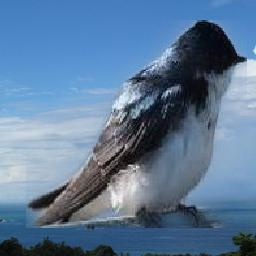Swallow: (27, 20, 248, 228)
